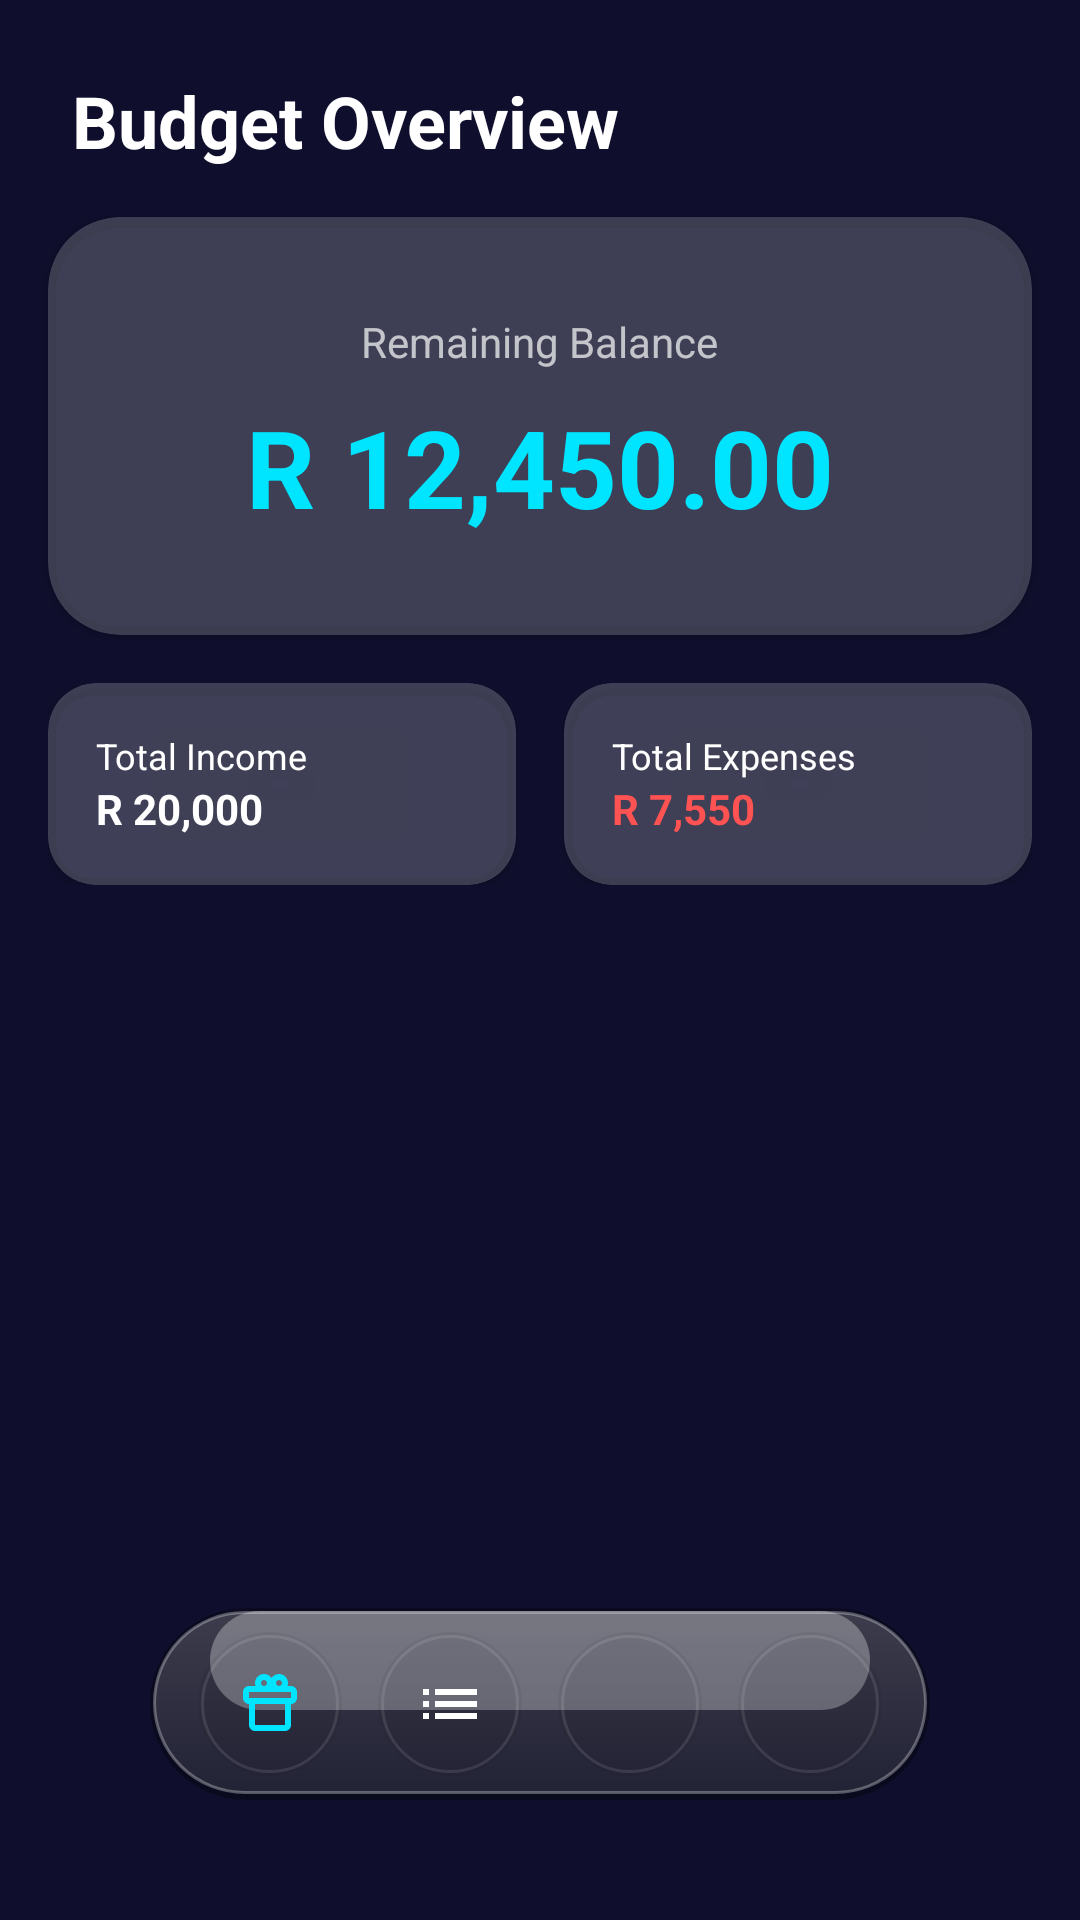

Point at icon controls on the screen. Image size 1080w x 1920h, points as [x,y].
gift: [270,1704]
menu: [450,1704]
